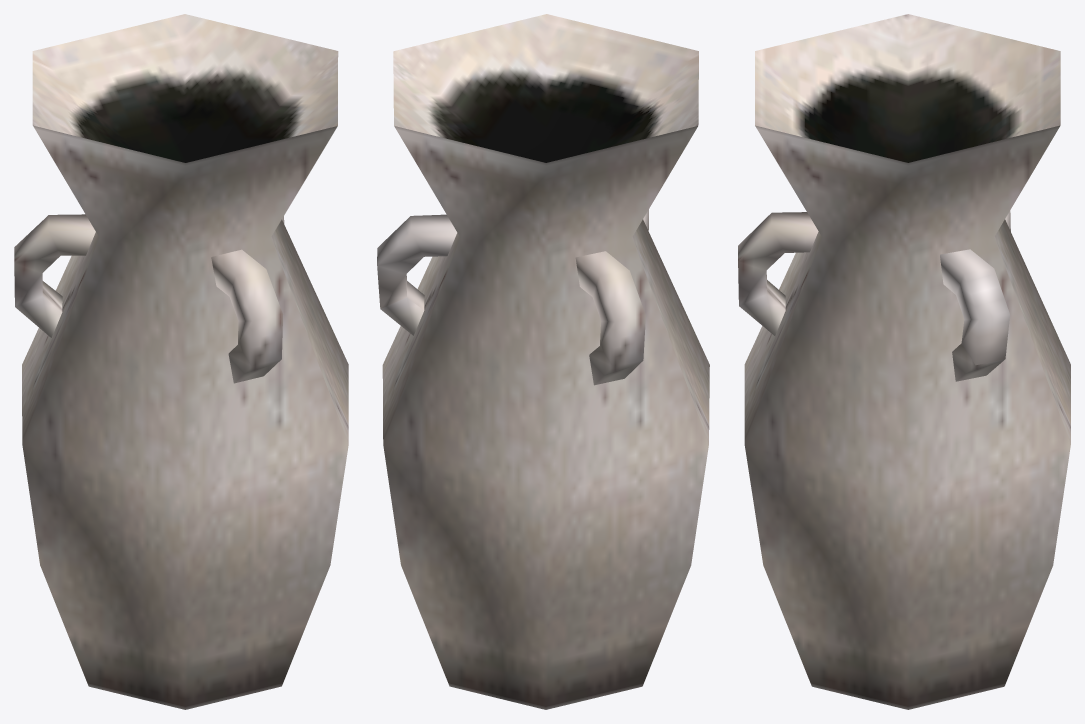
File: VaseTall.glb
3 views of the same model, side by side, from view 1: azimuth 30°, elevation 25°; view 2: azimuth 150°, elevation 25°; view 3: azimuth 270°, elevation 25° (orthographic).
Visible parts, largest first — view 1: VASETALL; view 2: VASETALL; view 3: VASETALL.
Part boxes in pixels (left/top/right/bottom): VASETALL: left=14, top=14, right=348, bottom=709; VASETALL: left=377, top=14, right=709, bottom=709; VASETALL: left=738, top=14, right=1070, bottom=709.
Bounding box in the file's own units: 0.403 × 0.678 × 0.356.
Materials: 1 (1 with a texture image).
